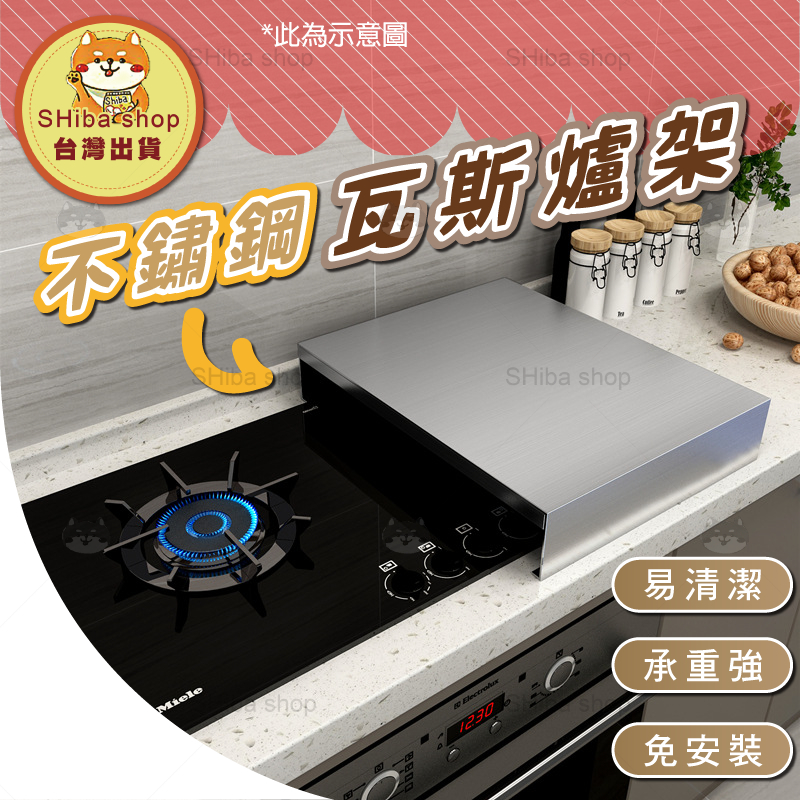gasoven: (15, 381, 638, 800)
